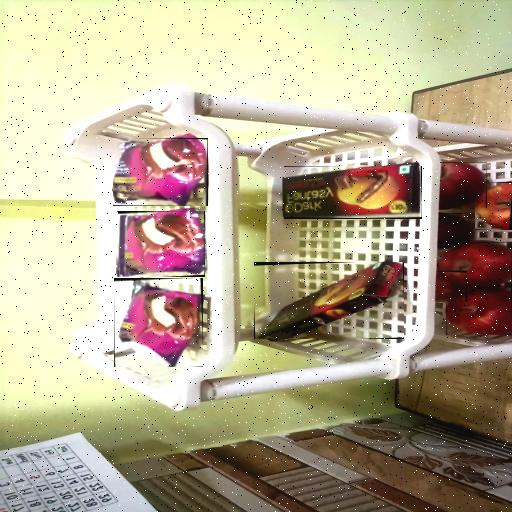Apple: (438, 242, 512, 289), (446, 288, 512, 335), (440, 162, 487, 208), (475, 182, 512, 230), (438, 213, 474, 248), (436, 271, 467, 302)
Choco Fills: (254, 262, 404, 339), (284, 166, 422, 219)
Choco Pie: (114, 278, 203, 367), (113, 138, 208, 206), (116, 211, 204, 277)
